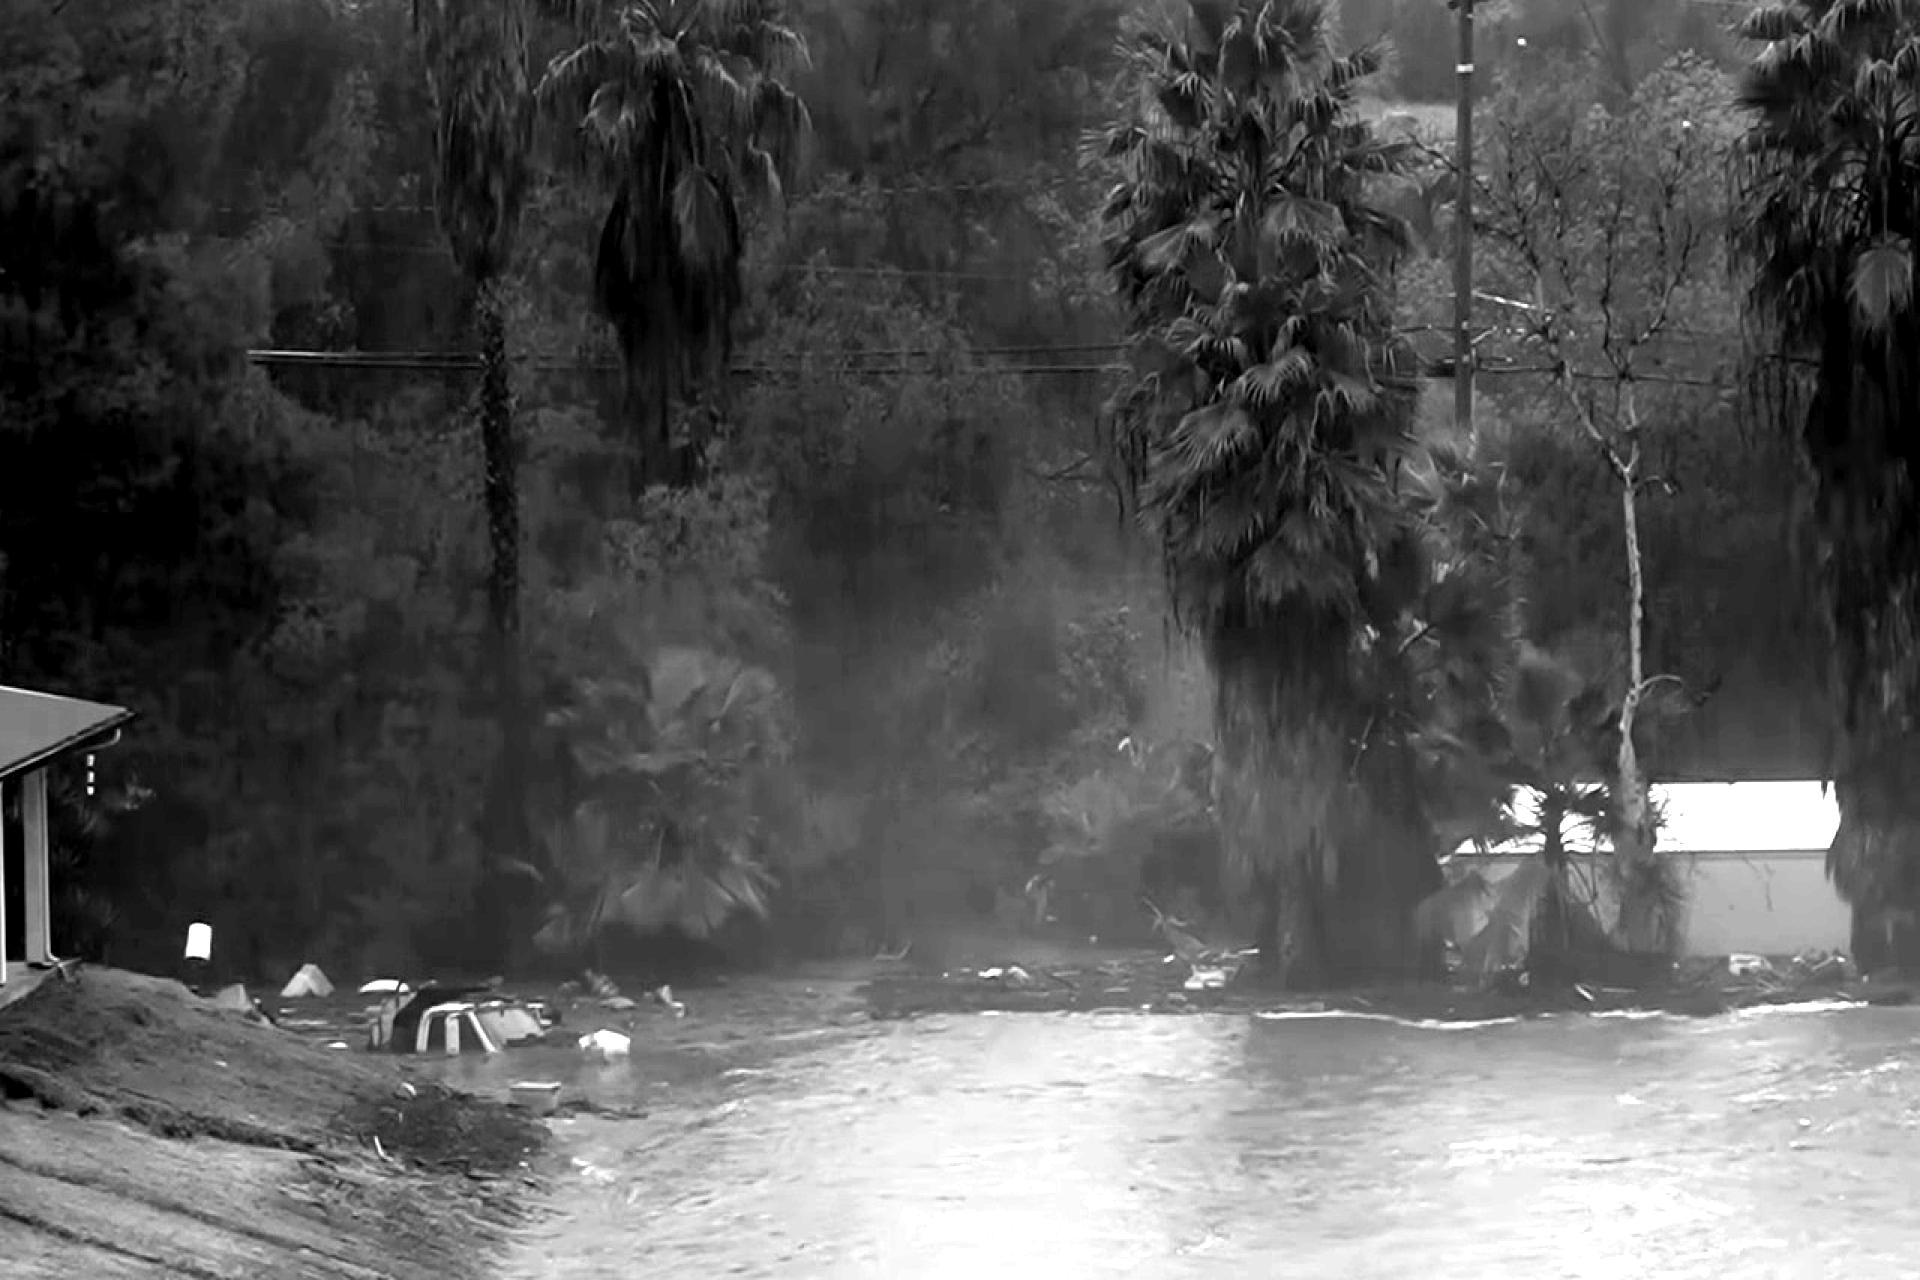House: (1449, 764, 1920, 981), (0, 451, 118, 1088)
